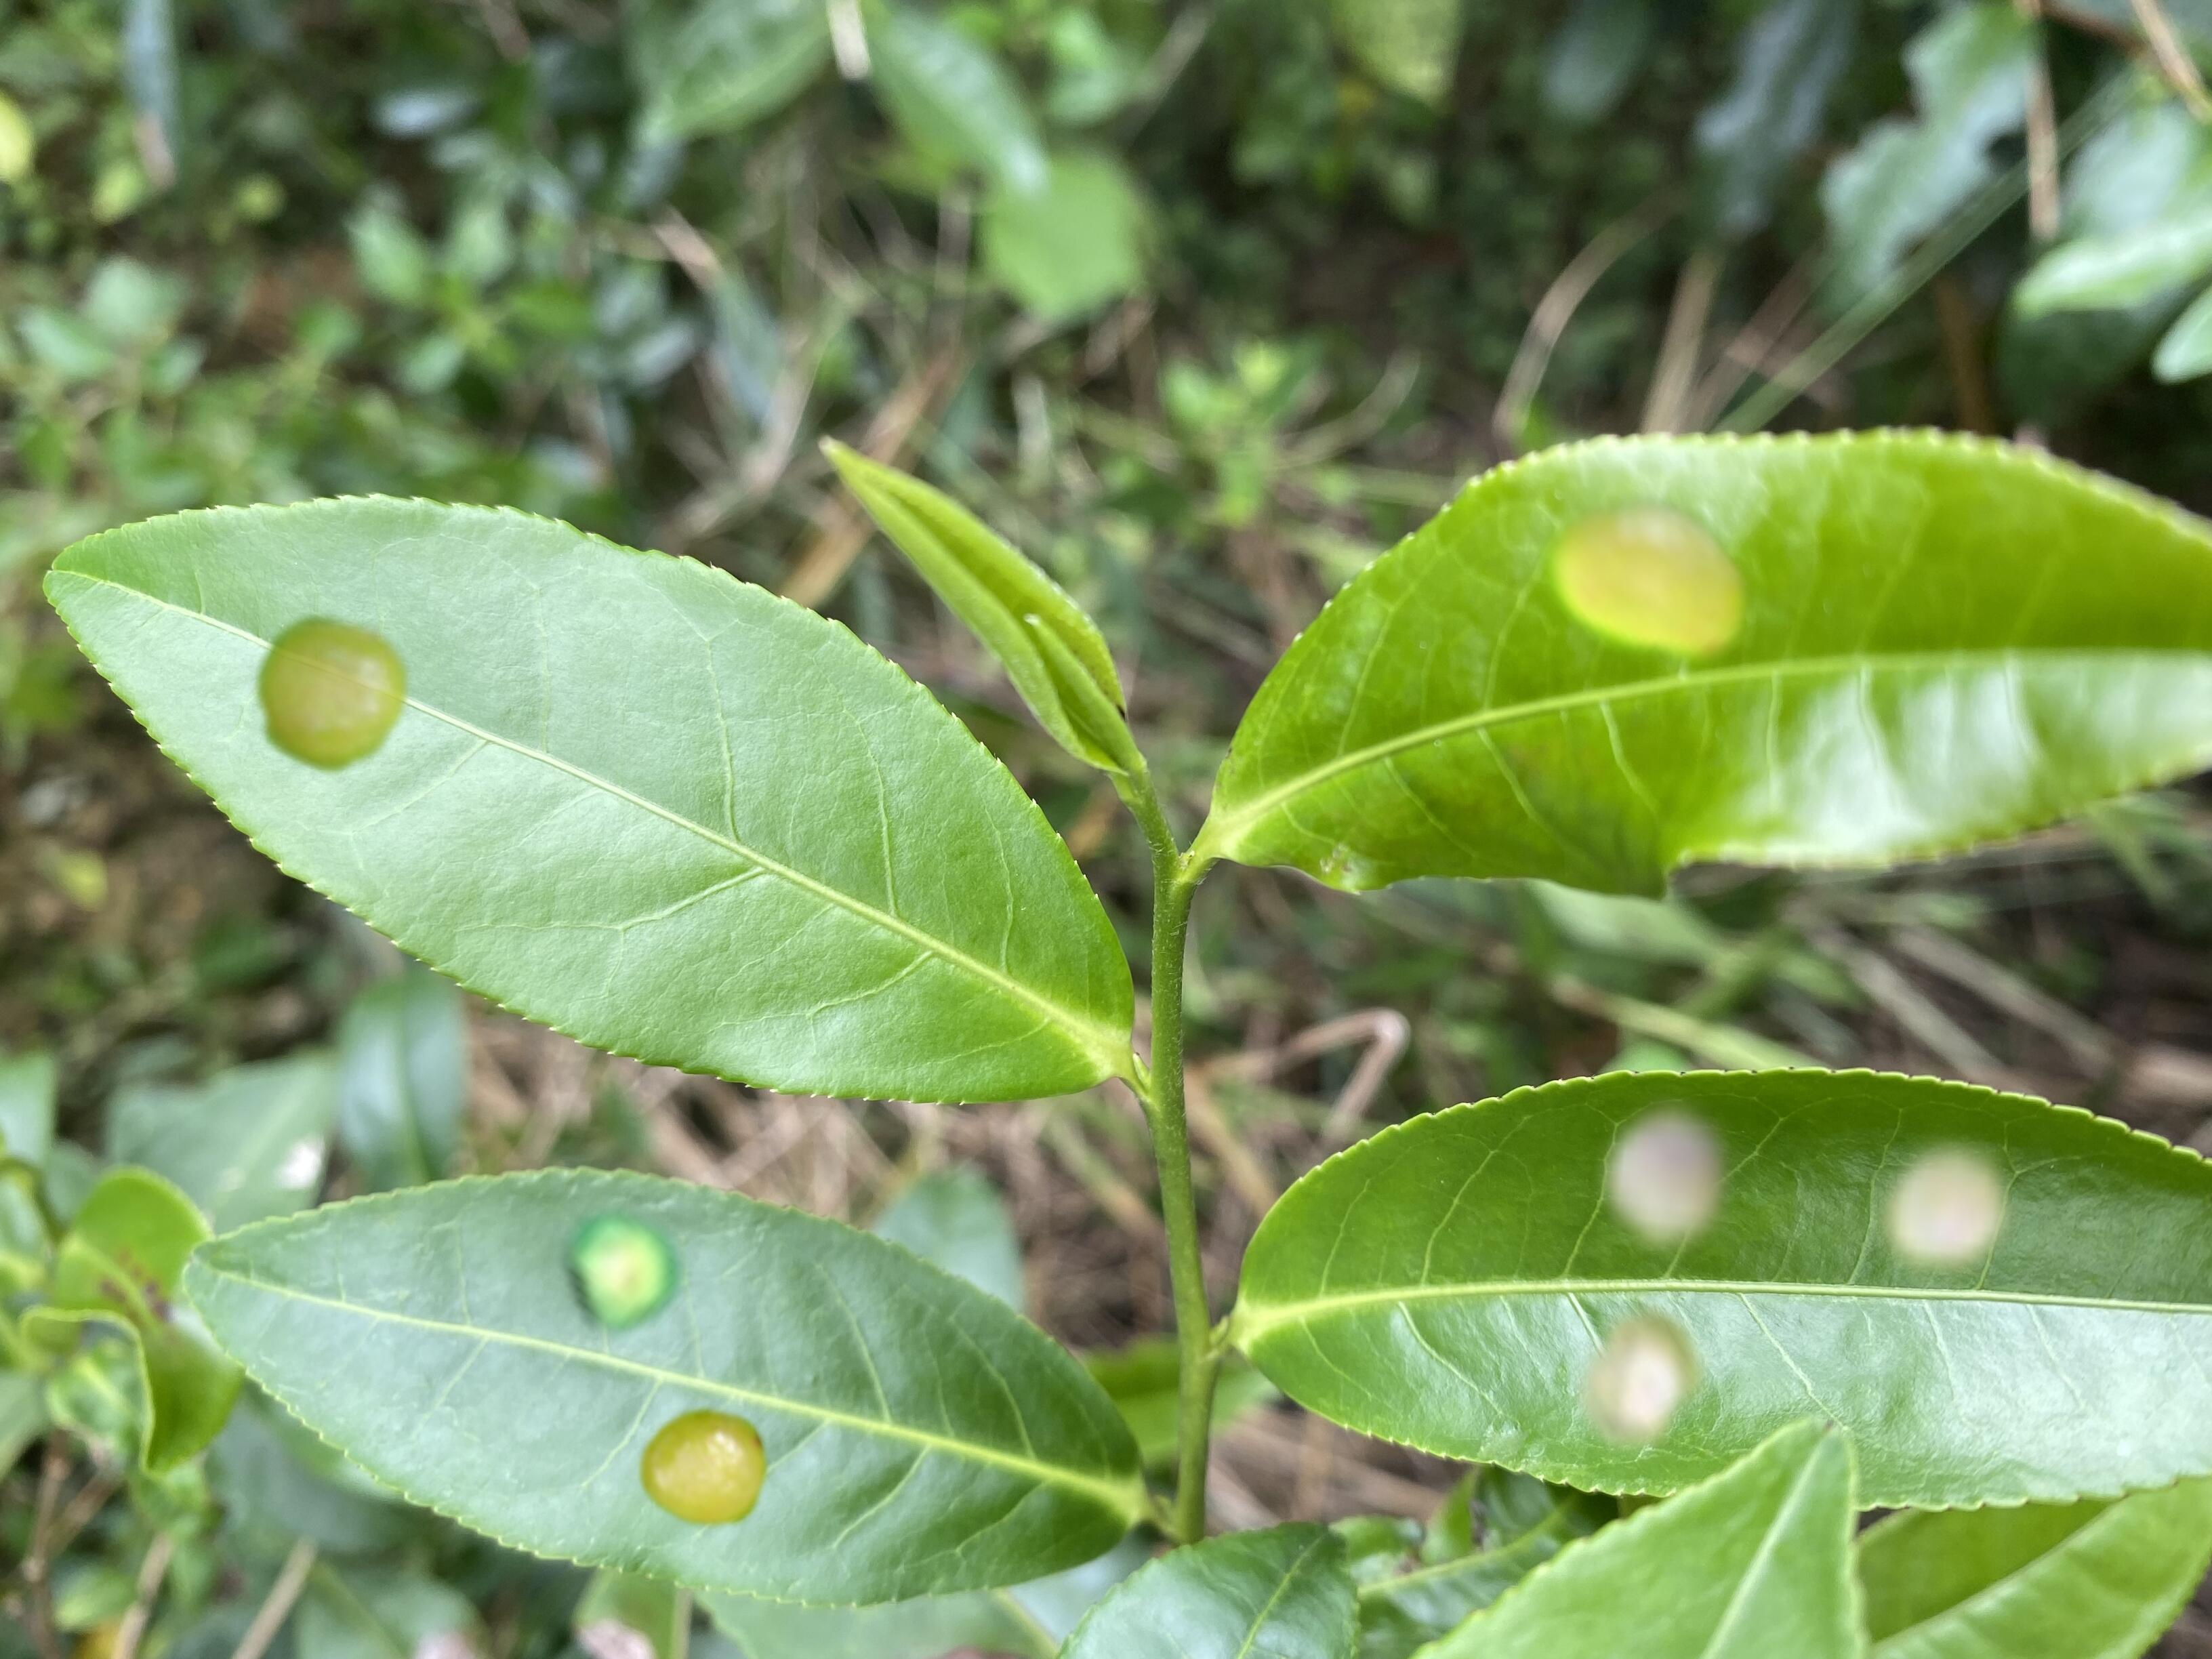chabing_high: (1228, 1065, 2207, 1518), (183, 1164, 1163, 1610)
chabing_low: (44, 488, 1137, 1101), (1204, 423, 2209, 908)
